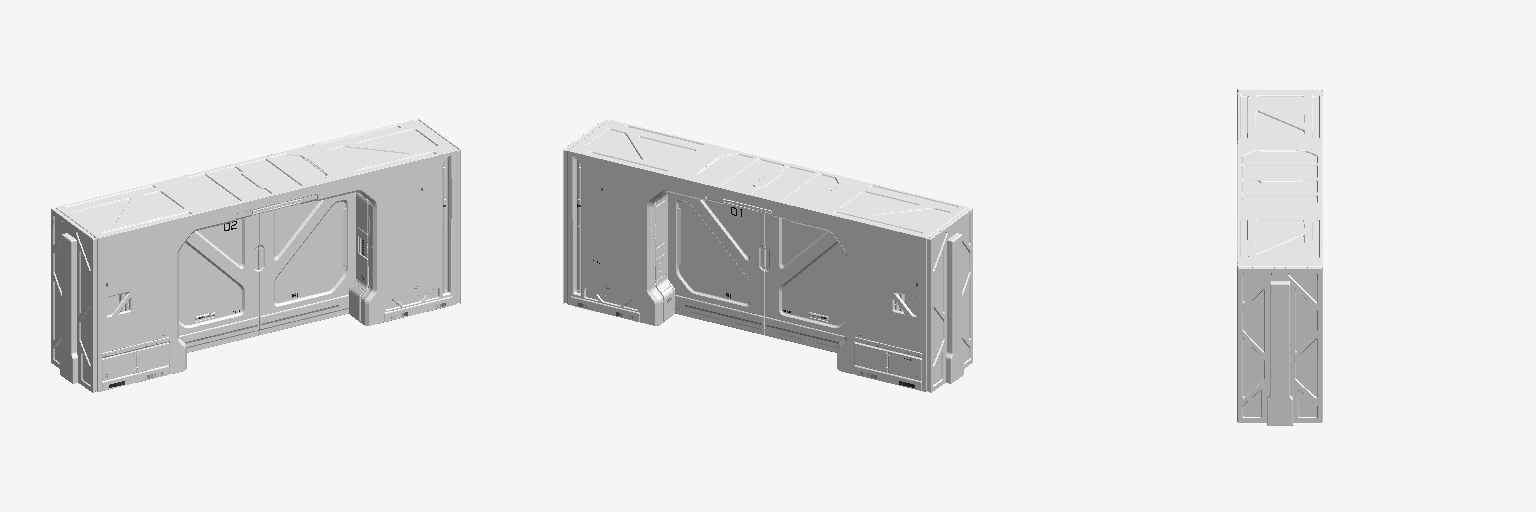
3 renders of one model, left to right at view 1: azimuth 30°, elevation 25°; view 2: azimuth 150°, elevation 25°; view 3: azimuth 270°, elevation 25°, orthographic.
Parts seen in each view (by area): view 1: Large_Grid_6429; view 2: Large_Grid_6429; view 3: Large_Grid_6429.
Part boxes in pixels (bbox=[...]): Large_Grid_6429: bbox=[51, 119, 460, 392]; Large_Grid_6429: bbox=[563, 119, 972, 392]; Large_Grid_6429: bbox=[1237, 89, 1322, 425].
Bounding box in the file's own units: 12.91 × 5.01 × 2.51.
Materials: 17 (5 with a texture image).